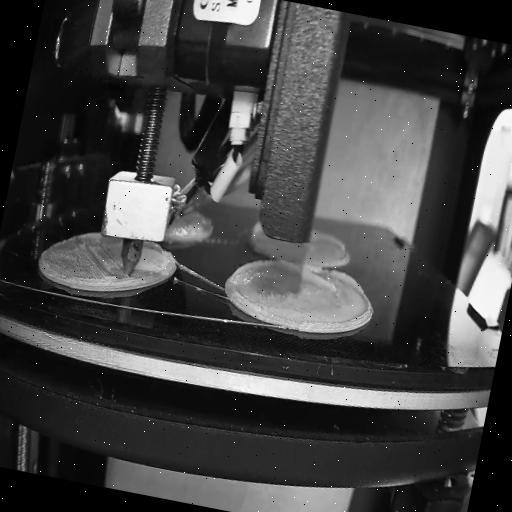over_extrusion: (280, 260, 372, 302), (228, 254, 276, 299)
